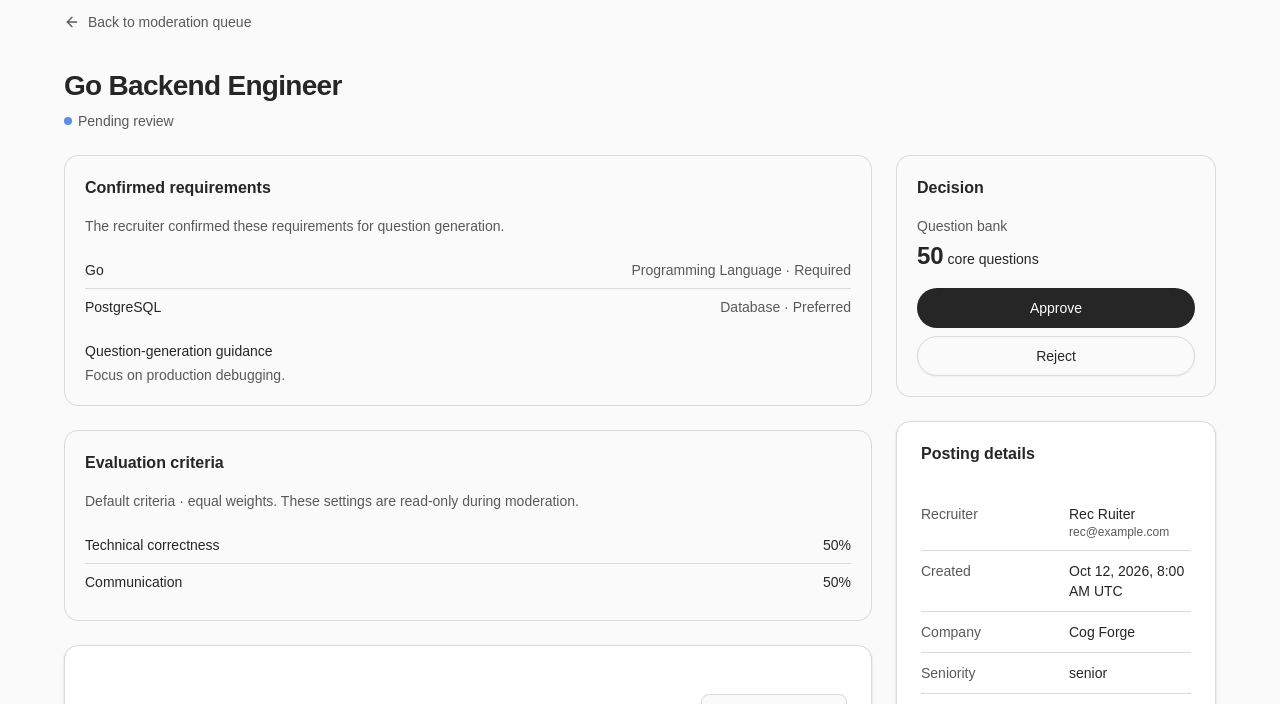
PostingReview › keeps the reason and shows the server message when rejecting fails
The image size is (1280, 704).
Click the button "Reject" at (1056, 356), box top-left (917, 336), bottom-right (1195, 376)
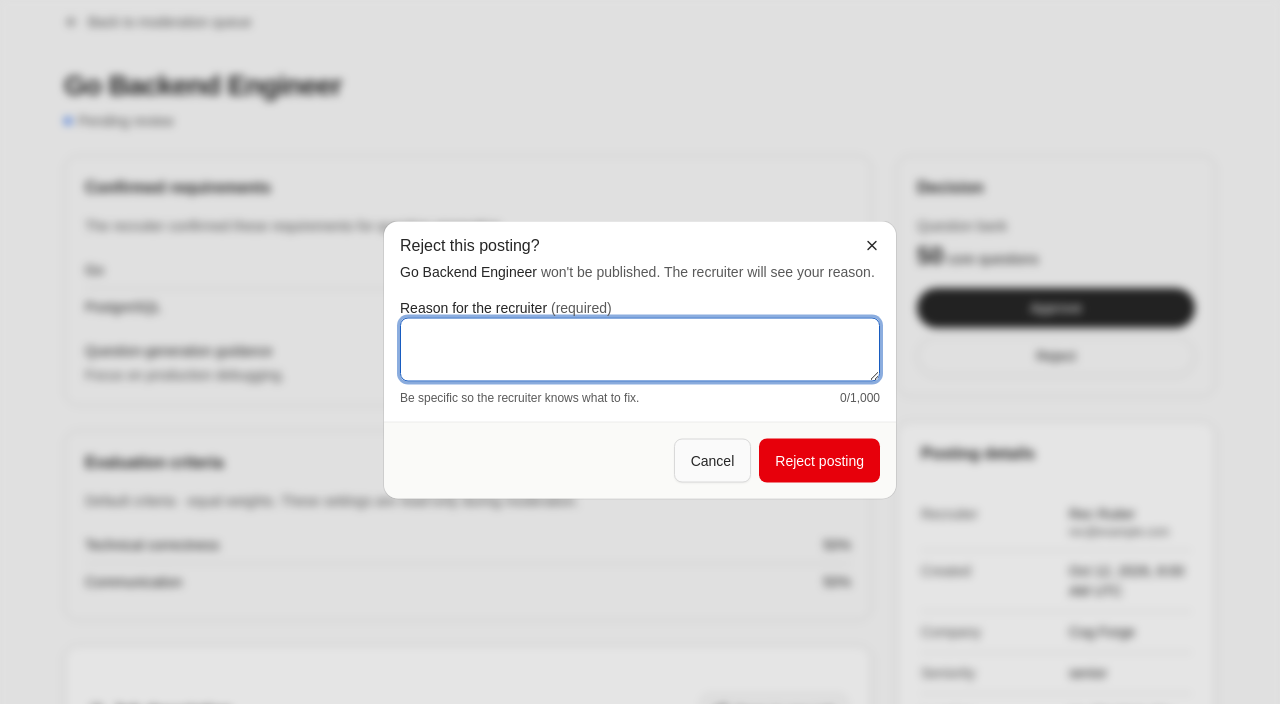
Type "Duplicate posting" into the text box labelled "Reason for the recruiter (required)" at (640, 350), box top-left (400, 318), bottom-right (880, 382)
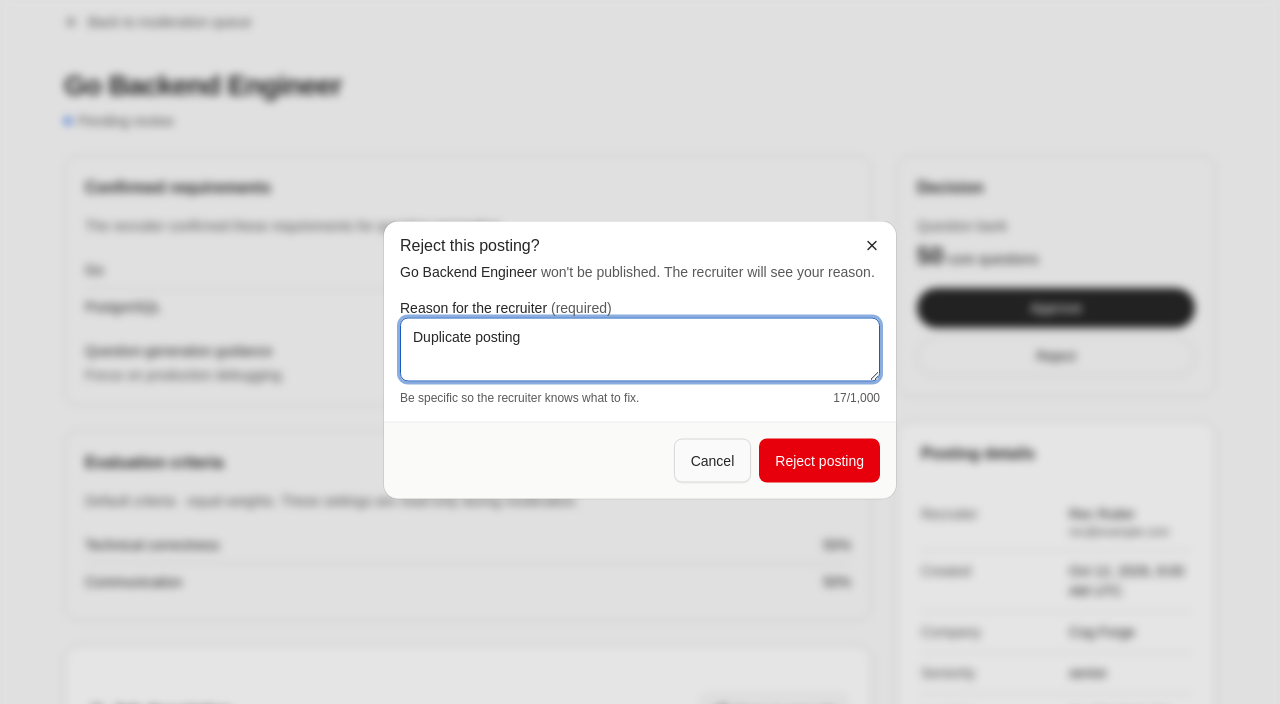
Click the button "Reject posting" at (820, 460), box top-left (759, 438), bottom-right (880, 482)
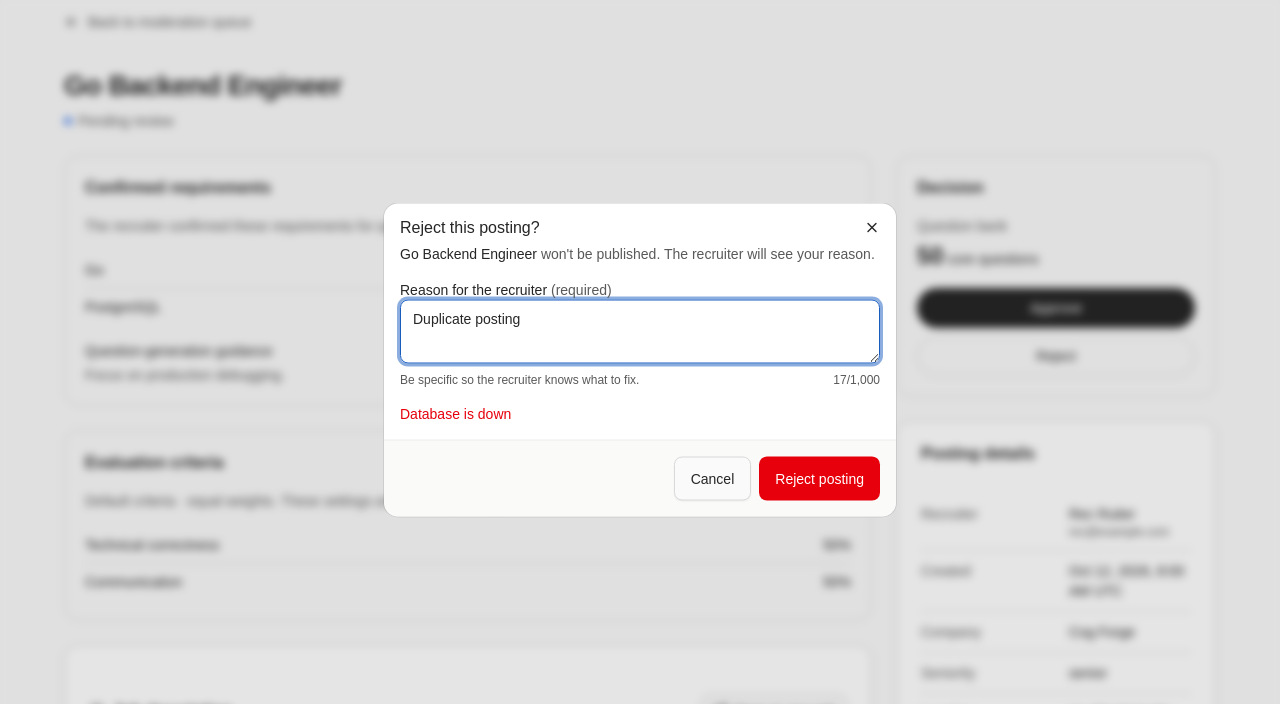
Expected: the text "Database is down" is shown, top-left (400, 406), bottom-right (511, 422)
